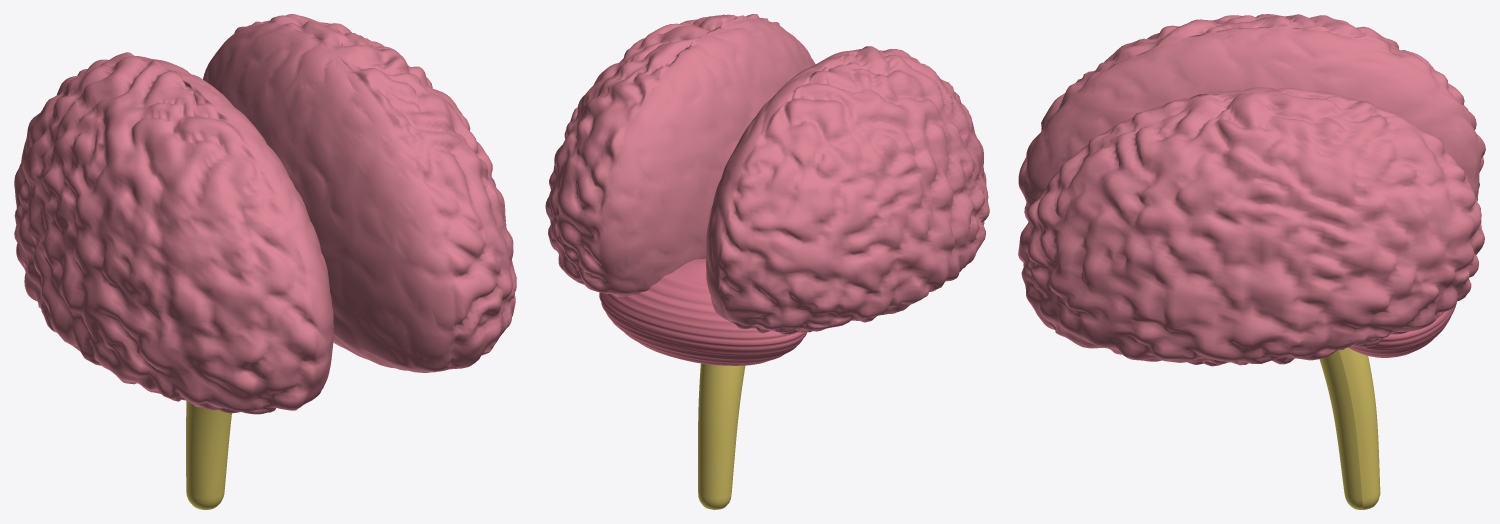
File: nervoso.glb
3 renders of one model, left to right at view 1: azimuth 30°, elevation 25°; view 2: azimuth 150°, elevation 25°; view 3: azimuth 270°, elevation 25°, orthographic. The views are drawn at different scales.
Parts seen in each view (by area): view 1: hemisferio_dir, hemisferio_esq, medula; view 2: hemisferio_dir, hemisferio_esq, cerebelo, medula; view 3: hemisferio_esq, hemisferio_dir, medula, cerebelo.
Part boxes in pixels (x1=…): hemisferio_dir: x1=14, y1=52, x2=333, y2=414; hemisferio_esq: x1=203, y1=14, x2=516, y2=372; medula: x1=186, y1=400, x2=231, y2=509; hemisferio_dir: x1=706, y1=46, x2=989, y2=334; hemisferio_esq: x1=545, y1=14, x2=815, y2=296; cerebelo: x1=599, y1=258, x2=806, y2=365; medula: x1=698, y1=363, x2=745, y2=509; hemisferio_esq: x1=1018, y1=87, x2=1484, y2=366; hemisferio_dir: x1=1018, y1=14, x2=1485, y2=221; medula: x1=1319, y1=347, x2=1380, y2=509; cerebelo: x1=1348, y1=302, x2=1456, y2=357.
Size of the model in its own units: 0.1791 by 0.2 by 0.1864.
